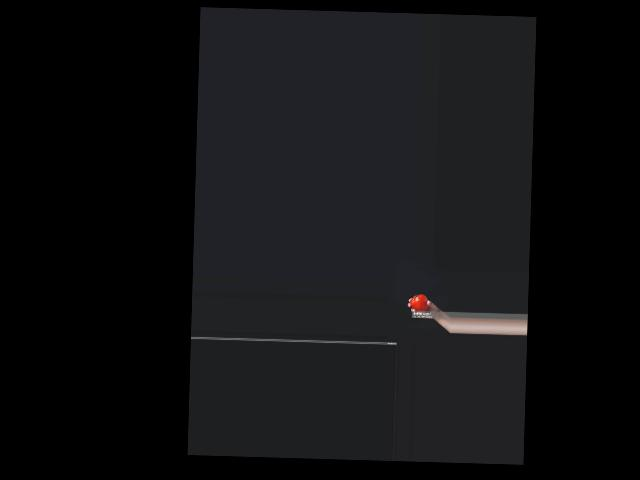tomato: (409, 293, 428, 311)
